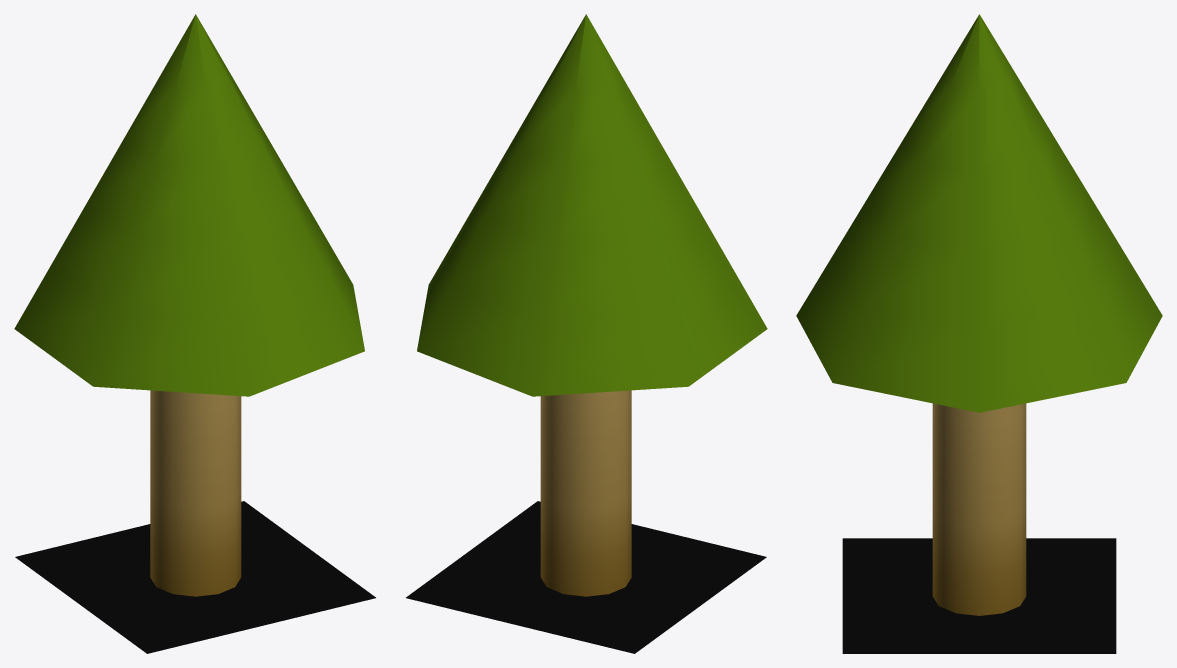
Rendered from tree.FBX.
3 views of the same model, side by side, from view 1: azimuth 30°, elevation 25°; view 2: azimuth 150°, elevation 25°; view 3: azimuth 270°, elevation 25° (orthographic). The views are drawn at different scales.
Visible parts, largest first — view 1: Cone001, Plane001; view 2: Cone001, Plane001; view 3: Cone001, Plane001.
Part boxes in pixels (bbox=[...]): Cone001: bbox=[14, 14, 364, 596]; Plane001: bbox=[15, 501, 375, 653]; Cone001: bbox=[417, 14, 767, 596]; Plane001: bbox=[406, 501, 766, 653]; Cone001: bbox=[796, 14, 1162, 615]; Plane001: bbox=[842, 538, 1116, 653].
Size of the model in its own units: 189 by 340 by 194.
